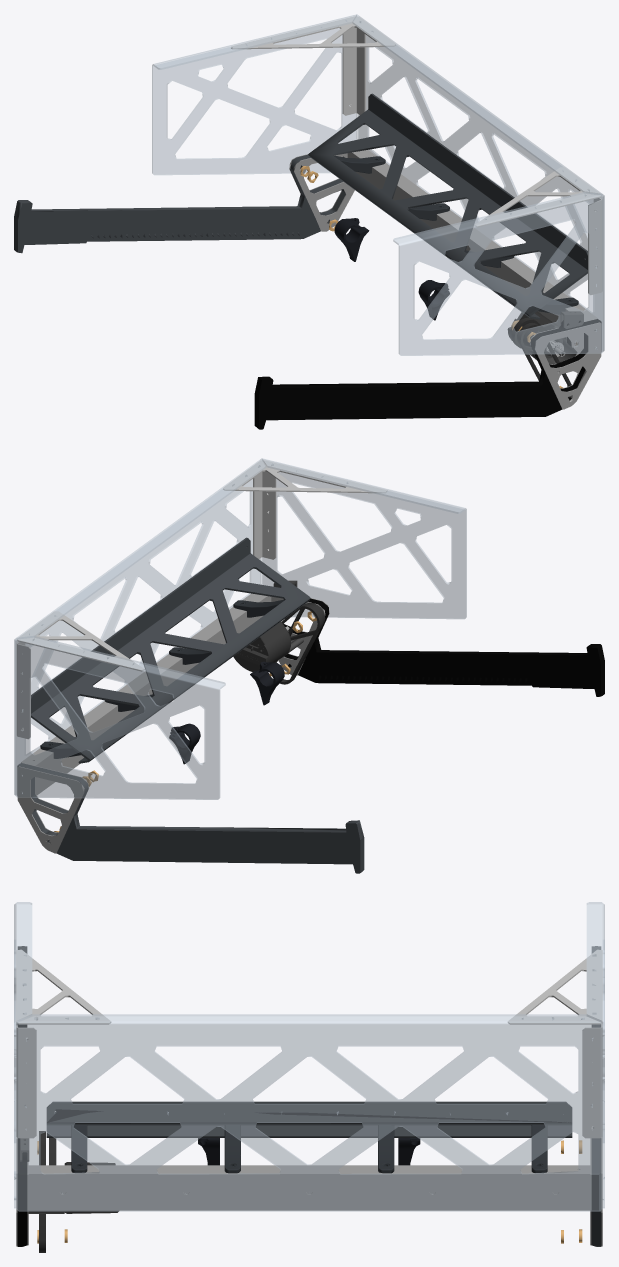
The model's file is 1690-carriage.glb.
3 views of the same model, one above another, from view 1: azimuth 30°, elevation 25°; view 2: azimuth 150°, elevation 25°; view 3: azimuth 270°, elevation 25° (orthographic). The views are drawn at different scales.
Visible parts, largest first — view 1: 1690-26-251-15A, 1690-26-252-04, 1690-26-251-01A, 1690-26-251-07A, 1690-26-251-16A, Part 108, Part 157-Mirrored, 46T 5M 9mm Wide Belt, 1690-26-252-01A, Kraken X60 Brushless Motor; view 2: 1690-26-251-15A, 1690-26-252-04, 1690-26-251-01A, 1690-26-251-16A, 1690-26-251-07A, Part 108, Part 157-Mirrored, Kraken X60 Brushless Motor, 46T 5M 9mm Wide Belt; view 3: 1690-26-251-15A, 1690-26-251-07A, 1690-26-252-04, 1690-26-251-16A, Part 108, 1690-26-251-01A, Part 157-Mirrored, 46T 5M 9mm Wide Belt.
Boxes of the visible parts, <box> form: 1690-26-251-15A: <box>152,14,604,355</box>; 1690-26-252-04: <box>14,93,587,319</box>; 1690-26-251-01A: <box>254,319,601,429</box>; 1690-26-251-07A: <box>289,150,601,409</box>; 1690-26-251-16A: <box>231,16,602,294</box>; Part 108: <box>334,155,578,314</box>; Part 157-Mirrored: <box>334,218,449,320</box>; 46T 5M 9mm Wide Belt: <box>511,317,571,386</box>; 1690-26-252-01A: <box>535,311,583,364</box>; Kraken X60 Brushless Motor: <box>507,311,564,359</box>; 1690-26-251-15A: <box>14,458,466,799</box>; 1690-26-252-04: <box>17,537,364,873</box>; 1690-26-251-01A: <box>283,598,604,696</box>; 1690-26-251-16A: <box>16,460,386,738</box>; 1690-26-251-07A: <box>17,593,329,853</box>; Part 108: <box>40,599,284,758</box>; Part 157-Mirrored: <box>169,661,284,764</box>; Kraken X60 Brushless Motor: <box>233,621,290,671</box>; 46T 5M 9mm Wide Belt: <box>272,603,325,684</box>; 1690-26-251-15A: <box>14,902,604,1211</box>; 1690-26-251-07A: <box>16,1138,602,1246</box>; 1690-26-252-04: <box>46,946,601,1246</box>; 1690-26-251-16A: <box>16,949,602,1138</box>; Part 108: <box>71,1124,547,1173</box>; 1690-26-251-01A: <box>17,946,27,1246</box>; Part 157-Mirrored: <box>198,1138,420,1165</box>; 46T 5M 9mm Wide Belt: <box>39,1131,56,1252</box>.
Size of the model in its own units: 0.588 by 0.3406 by 0.7304.
